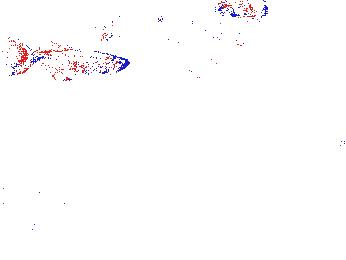glassfish: (84, 5, 208, 74)
redtail glassfish: (13, 38, 131, 75), (188, 11, 273, 36)
